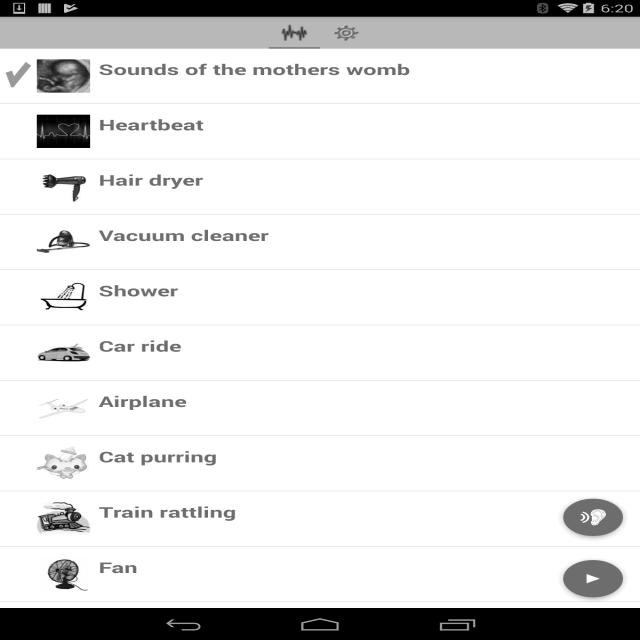ImageButton: (550, 487, 636, 548), (550, 548, 636, 609)
ImageView: (37, 59, 90, 93), (37, 225, 90, 259), (37, 391, 90, 425), (37, 557, 90, 591), (37, 115, 90, 148), (37, 170, 90, 203), (37, 281, 90, 314), (37, 336, 90, 369), (37, 447, 90, 480), (37, 502, 90, 535), (0, 59, 37, 92), (0, 170, 37, 203), (0, 225, 37, 258), (0, 336, 37, 369), (0, 391, 37, 424), (0, 502, 37, 535), (0, 557, 37, 590), (0, 115, 37, 147), (0, 281, 37, 313), (0, 447, 37, 479), (282, 24, 307, 40), (333, 24, 358, 40)
TextView: (90, 59, 410, 79), (90, 225, 269, 245), (90, 502, 236, 522), (90, 447, 217, 466), (90, 170, 204, 190), (90, 115, 204, 134), (90, 391, 187, 411), (90, 336, 181, 356), (90, 281, 178, 300), (90, 557, 138, 577)
